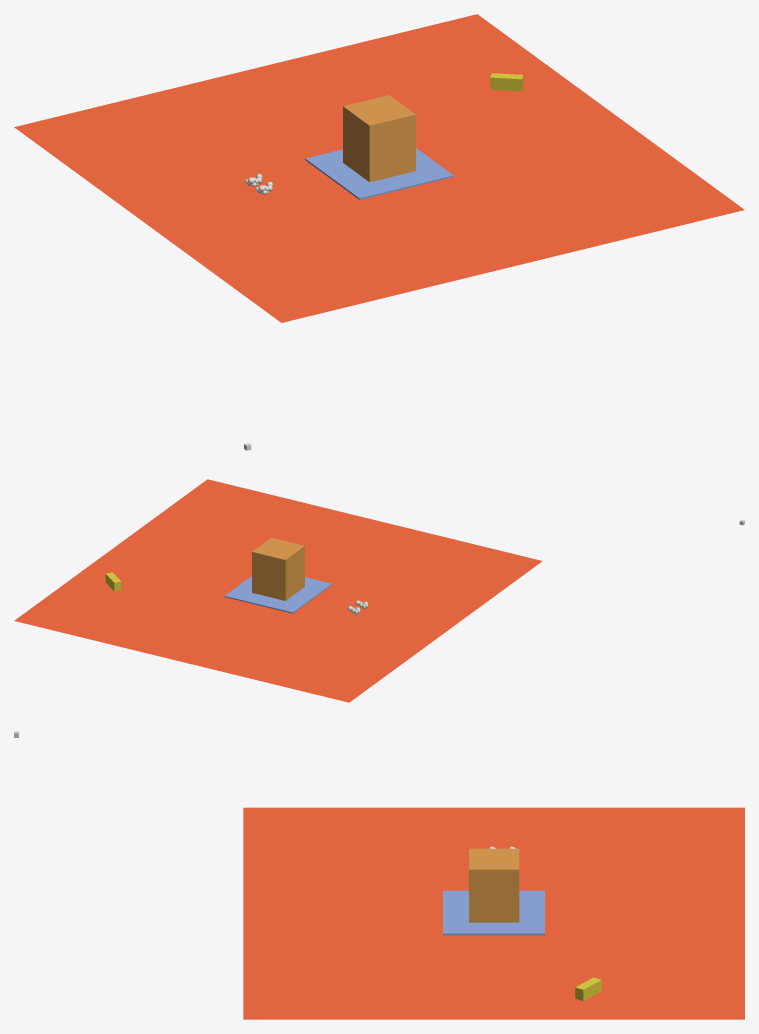
3 views of the same model, one above another, from view 1: azimuth 30°, elevation 25°; view 2: azimuth 150°, elevation 25°; view 3: azimuth 270°, elevation 25° (orthographic). The views are drawn at different scales.
Visible parts, largest first — view 1: Plane, Batiment, Batiment.002; view 2: Plane, Batiment, Batiment.002; view 3: Plane, Batiment, Batiment.002.
Part boxes in pixels (<box>): Plane: <box>14,14,744,322</box>; Batiment: <box>343,95,415,182</box>; Batiment.002: <box>305,148,453,199</box>; Plane: <box>14,479,542,702</box>; Batiment: <box>252,537,304,600</box>; Batiment.002: <box>224,576,332,613</box>; Plane: <box>243,807,744,1019</box>; Batiment: <box>469,848,519,922</box>; Batiment.002: <box>443,890,544,935</box>.
Size of the model in its own units: 134 by 12 by 146.
